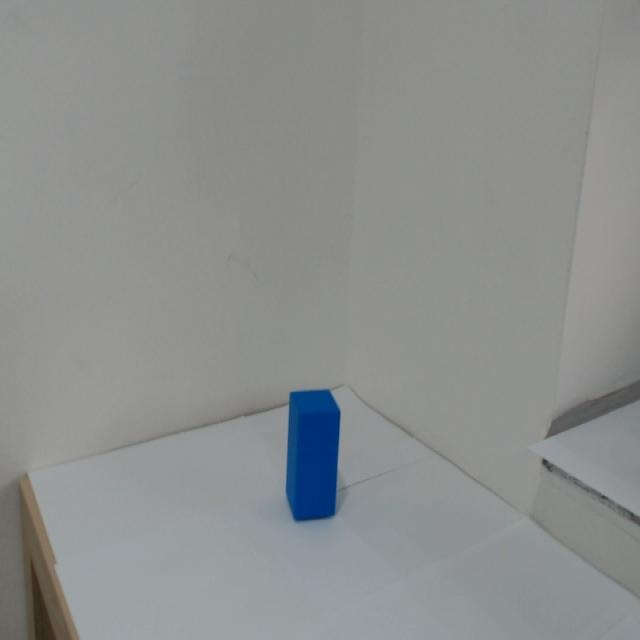cube: (261, 359, 377, 556)
